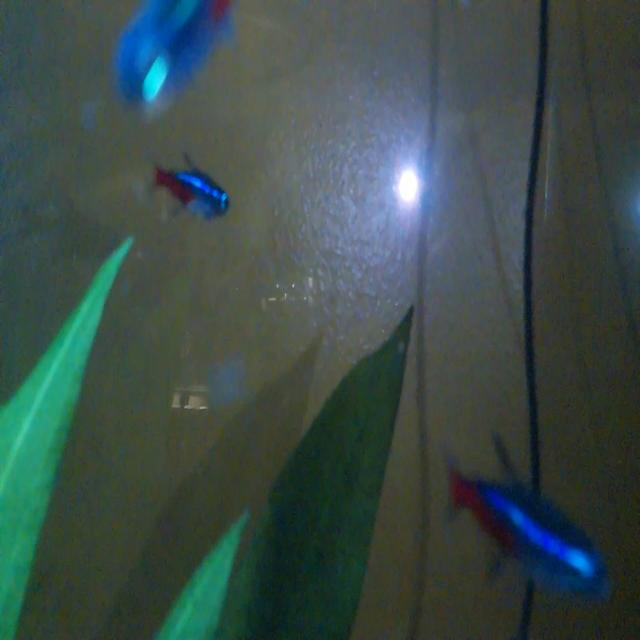fish: (433, 408, 611, 612), (152, 142, 236, 234)
